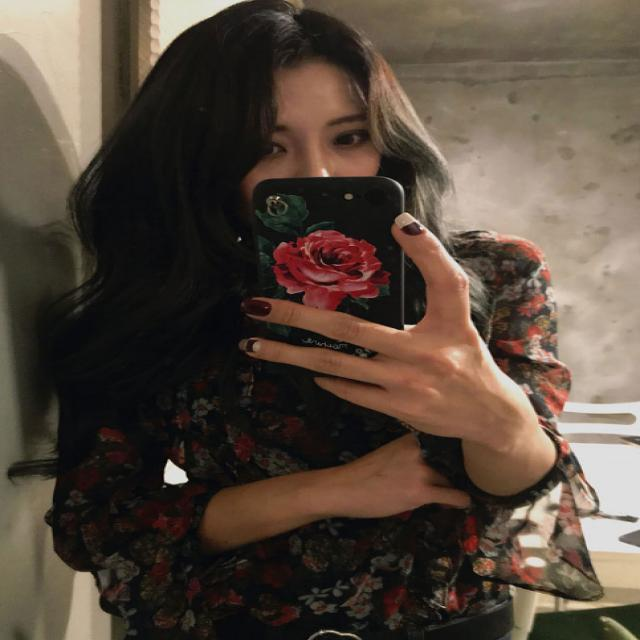phone: (254, 176, 406, 380)
